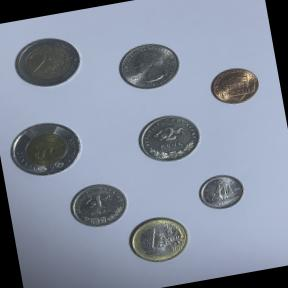1 Euro: (122, 210, 197, 270)
2 Euro: (7, 26, 88, 96)
Canda-10cent-: (191, 166, 250, 216)
Canda-2Dollar-: (0, 112, 88, 184)
Croatia-2Kune-: (130, 106, 208, 170)
US-1cent-: (204, 59, 266, 112)
US-25cent-: (111, 34, 186, 97)
